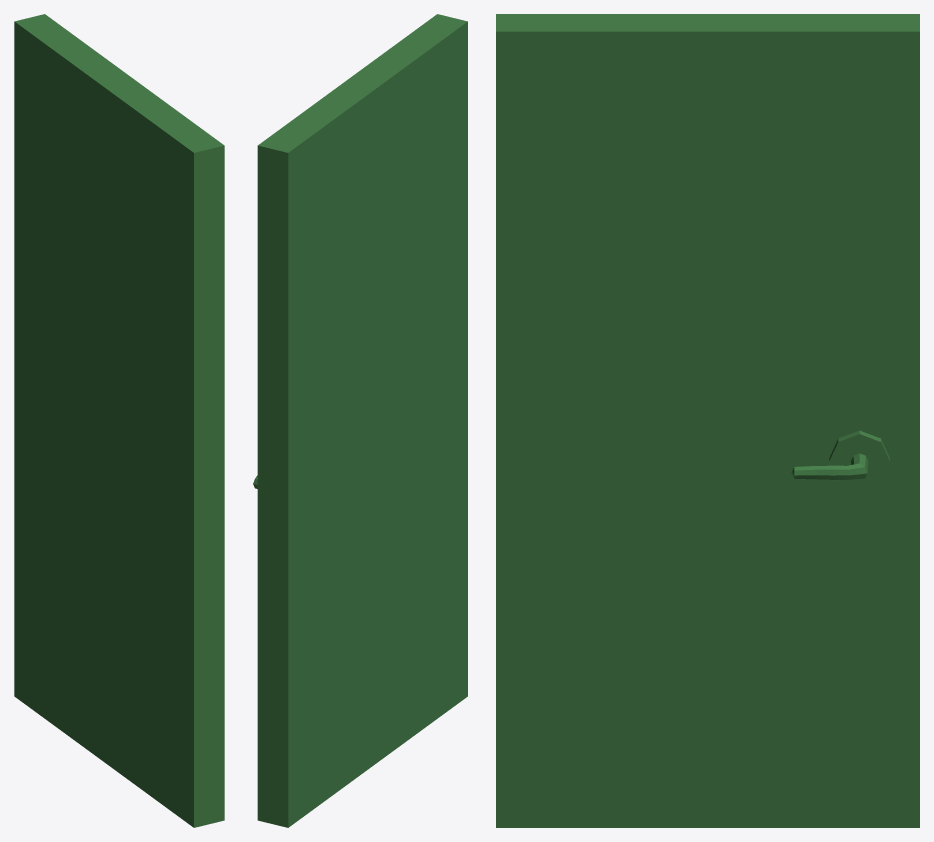
The model's file is door 1.fbx.
3 views of the same model, side by side, from view 1: azimuth 30°, elevation 25°; view 2: azimuth 150°, elevation 25°; view 3: azimuth 270°, elevation 25° (orthographic). The views are drawn at different scales.
Visible parts, largest first — view 1: polySurface169; view 2: polySurface169; view 3: polySurface169.
Part boxes in pixels (x1=…): polySurface169: x1=14, y1=14, x2=224, y2=827; polySurface169: x1=253, y1=14, x2=467, y2=827; polySurface169: x1=496, y1=14, x2=919, y2=827.
Bounding box in the file's own units: 0.6166 × 6.52 × 3.14.
